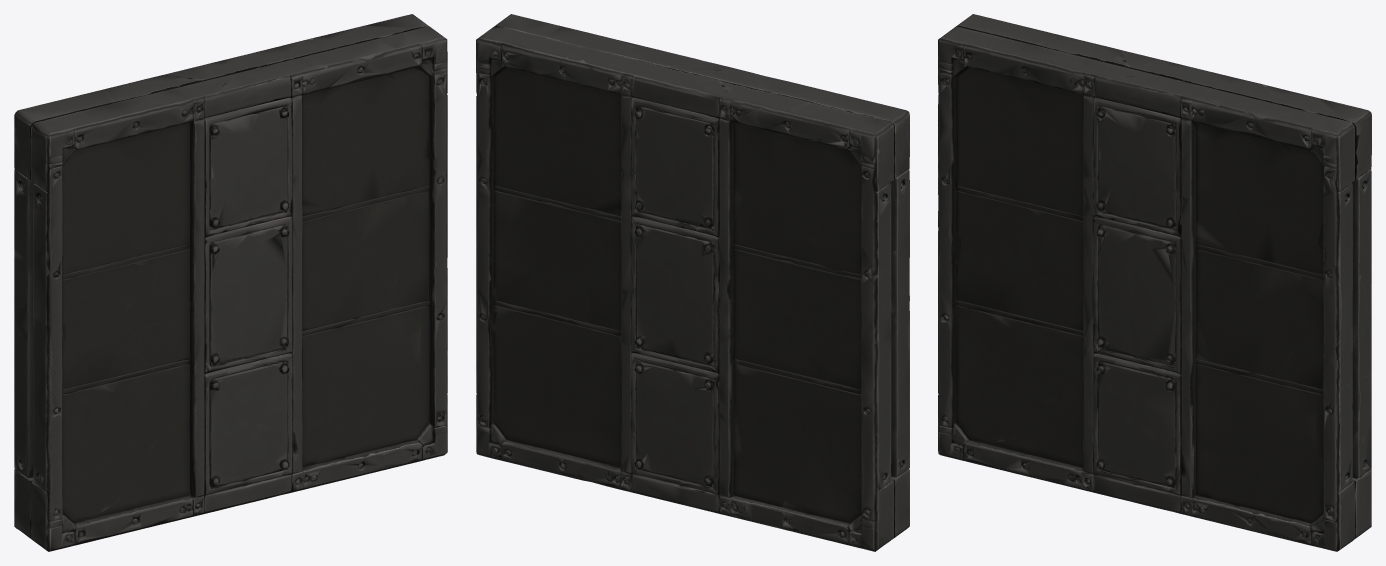
The model's file is industrial_panel.glb.
3 views of the same model, side by side, from view 1: azimuth 30°, elevation 25°; view 2: azimuth 150°, elevation 25°; view 3: azimuth 330°, elevation 25° (orthographic).
Size of the model in its own units: 0.9791 by 0.9736 by 0.1715.
Materials: 1 (1 with a texture image).
